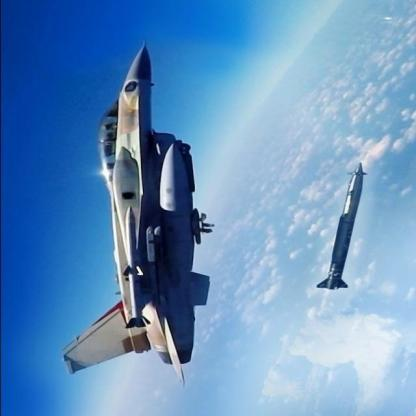MIL_TBM: (328, 158, 370, 296)
